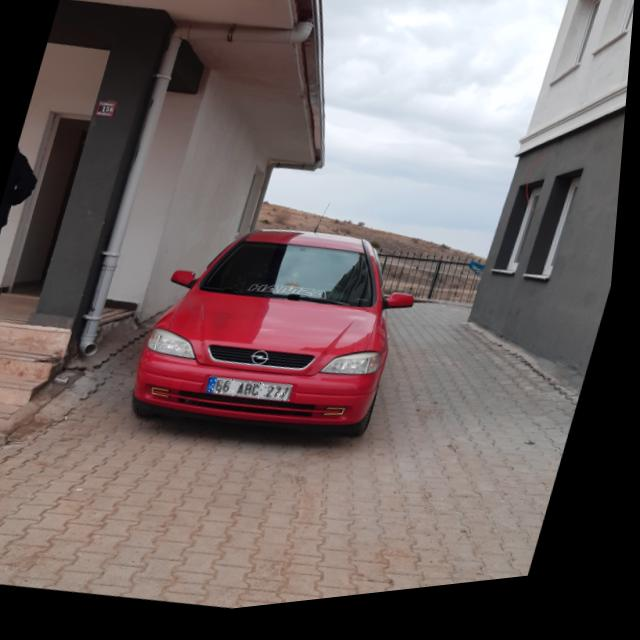license_plate: (211, 375, 301, 417)
